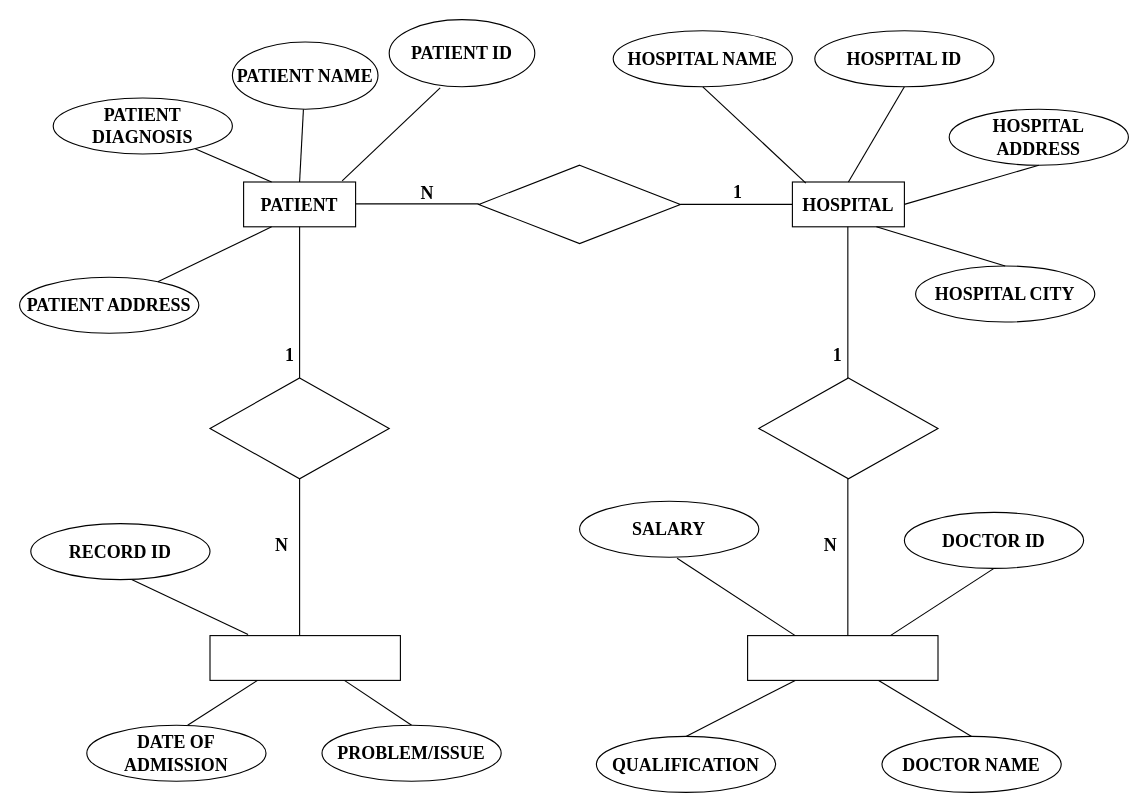
The diagram is 1148 pixels wide and 812 high, and some of its shapes have lost their labels. Here are the shapes that lost their labels. From the top down, the centre of each, then its label:
At point 579,204: "ADMITTED IN".
At point 299,428: "HAS NEW/EXISTING".
At point 848,428: "HAS EXPERIENCED/ YOUNG".
At point 304,657: "MEDICAL RECORD".
At point 842,657: "DOCTOR".
